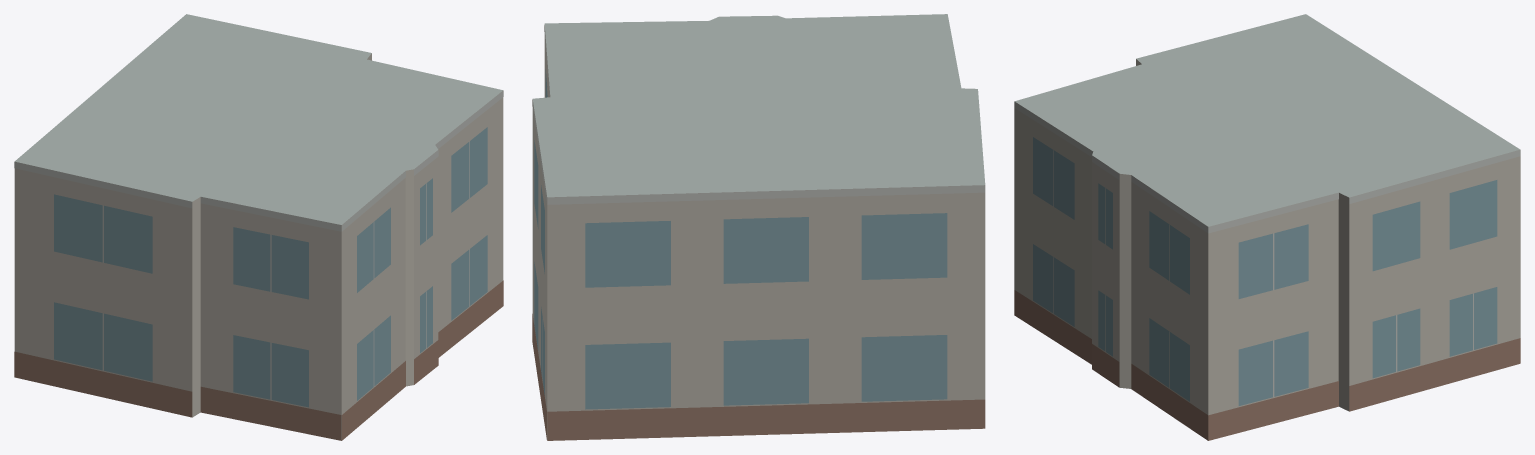
The model's file is survey-upis-32616188.glb.
The picture shows the model from 3 angles, left to right: view 1: azimuth 30°, elevation 25°; view 2: azimuth 150°, elevation 25°; view 3: azimuth 270°, elevation 25°; orthographic projection. The views are drawn at different scales.
Parts seen in each view (by area): view 1: survey-upis-32616188.tmp; view 2: survey-upis-32616188.tmp; view 3: survey-upis-32616188.tmp.
Boxes of the visible parts, x1,y1,x2,y2 form: survey-upis-32616188.tmp: (14, 14, 503, 440); survey-upis-32616188.tmp: (532, 14, 985, 440); survey-upis-32616188.tmp: (1014, 14, 1520, 440).
Bounding box in the file's own units: 16.86 × 7.9 × 16.94.
